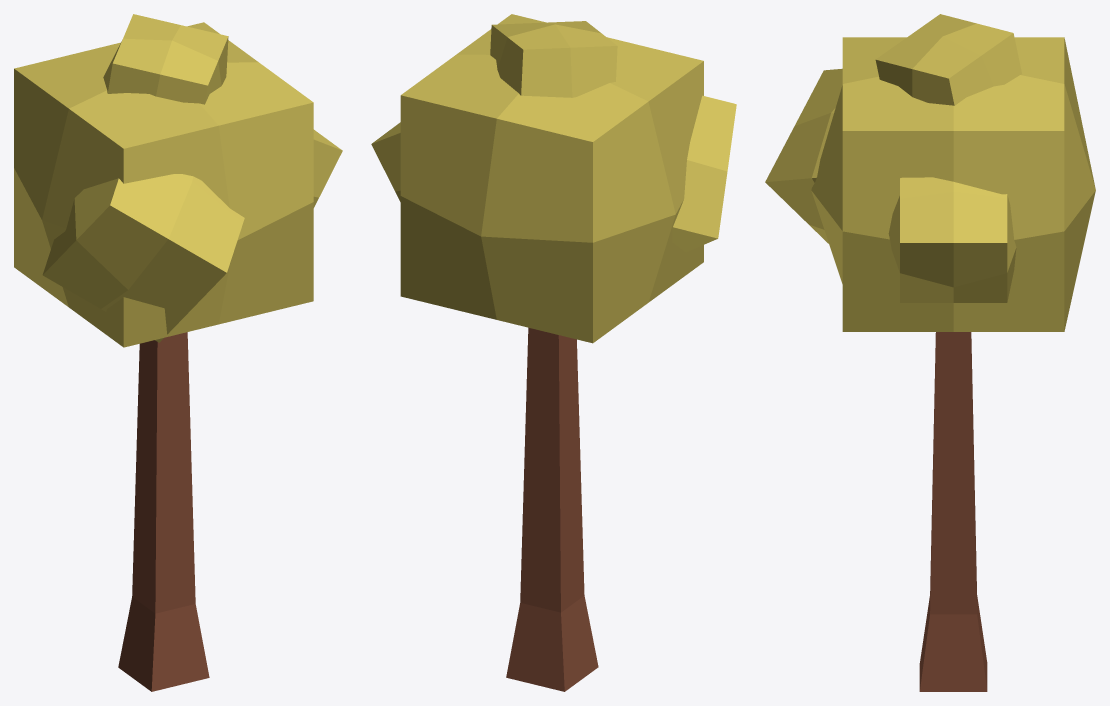
The model's file is Tree_43_autumn_mat.fbx.
3 renders of one model, left to right at view 1: azimuth 30°, elevation 25°; view 2: azimuth 150°, elevation 25°; view 3: azimuth 270°, elevation 25°, orthographic.
Parts seen in each view (by area): view 1: Tree_43_autumn_mat; view 2: Tree_43_autumn_mat; view 3: Tree_43_autumn_mat.
Boxes of the visible parts, <box> form: Tree_43_autumn_mat: <box>14,14,342,691</box>; Tree_43_autumn_mat: <box>371,14,736,691</box>; Tree_43_autumn_mat: <box>765,14,1095,691</box>.
Bounding box in the file's own units: 76.72 × 158 × 73.68.
